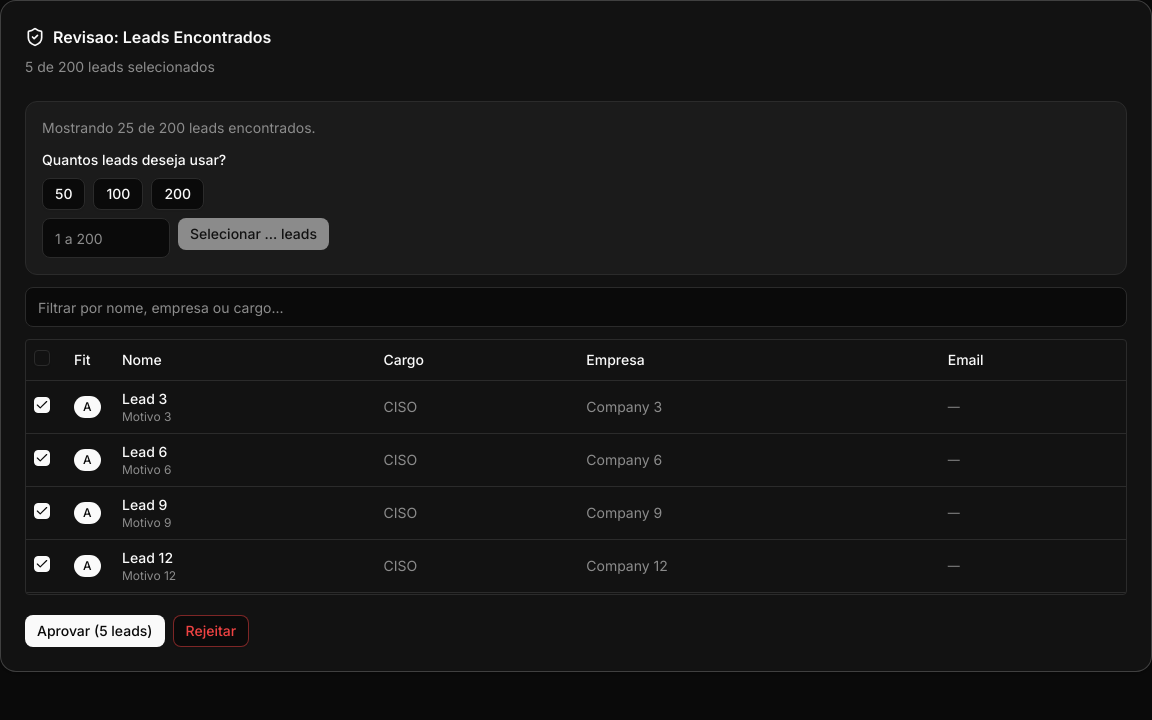
Test case: AgentLeadReview — Story 24.16 Fit Score › fetch-leads: os 25 mantem o score por apolloId, os 25 novos ficam com '—' no fim, seleciona os Q primeiros
Type "30" into the number field with test id "lead-quantity-input" at (106, 238), box x1=42 y1=218 x2=170 y2=258
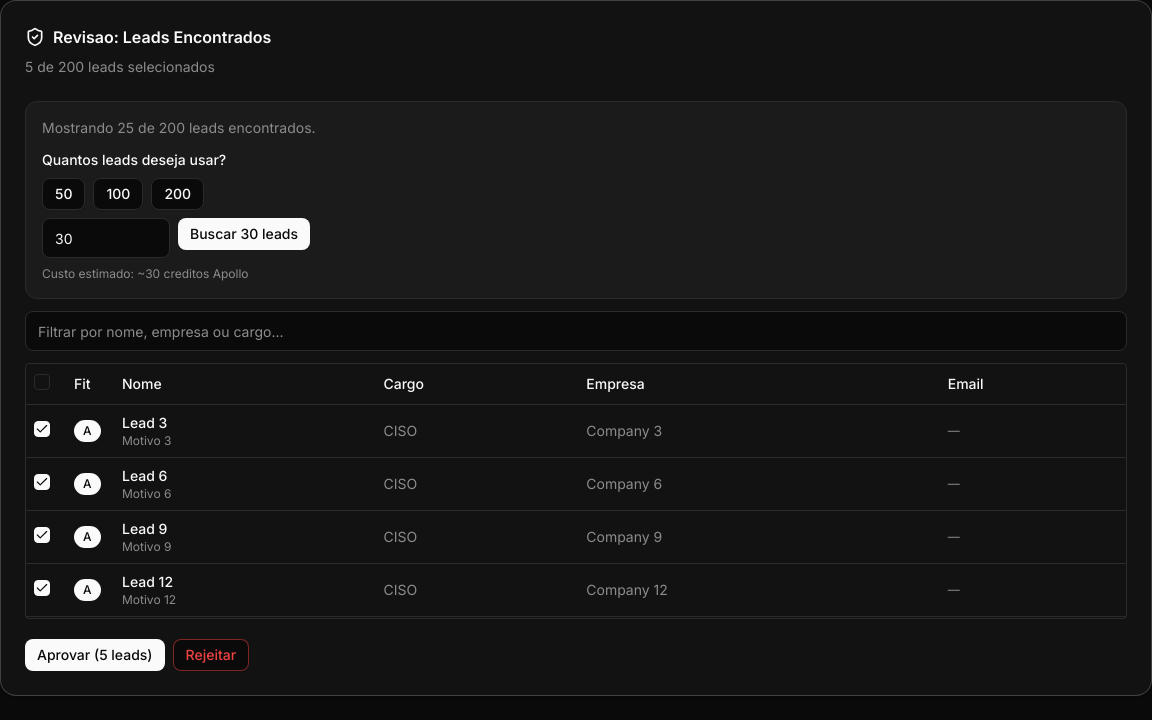
Click the button "Buscar 30 leads" at (244, 234), box x1=178 y1=218 x2=310 y2=250
(page scrolled)
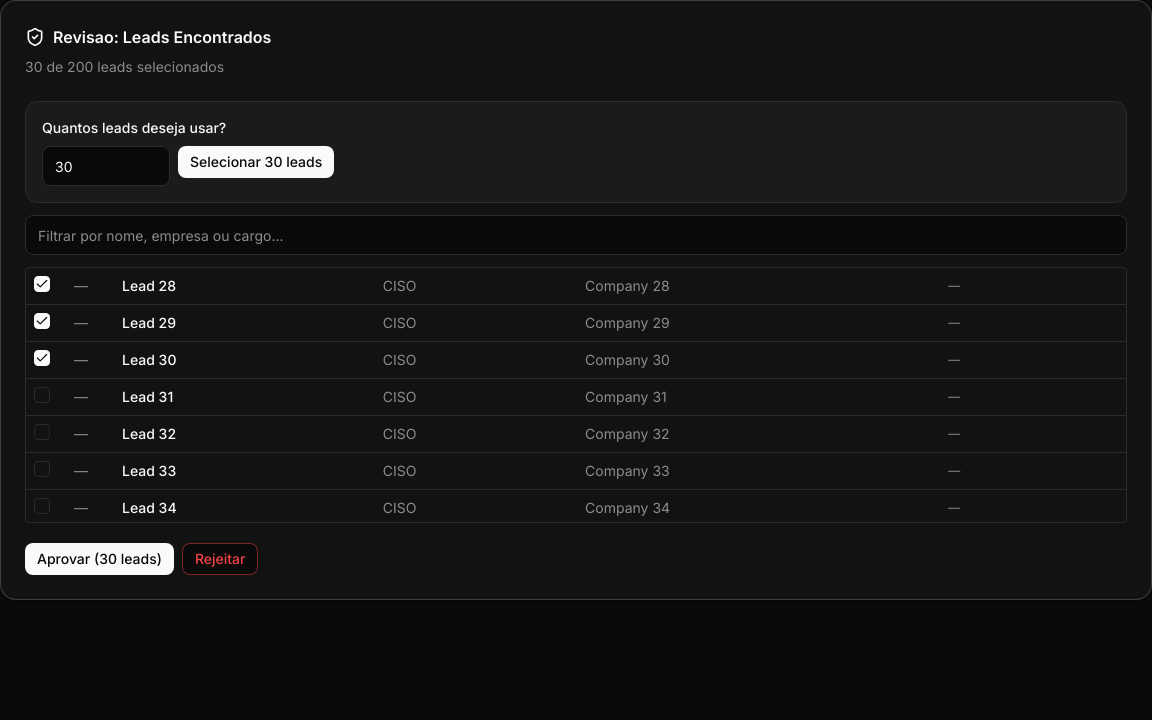
Expected: the checkbox named "Selecionar Lead 31" is not checked, x1=34 y1=386 x2=50 y2=402
Expected: the text "30 de 200 leads selecionados" is shown, x1=25 y1=58 x2=224 y2=75
Expected: the checkbox named "Selecionar Lead 30" is checked, x1=34 y1=350 x2=50 y2=366
